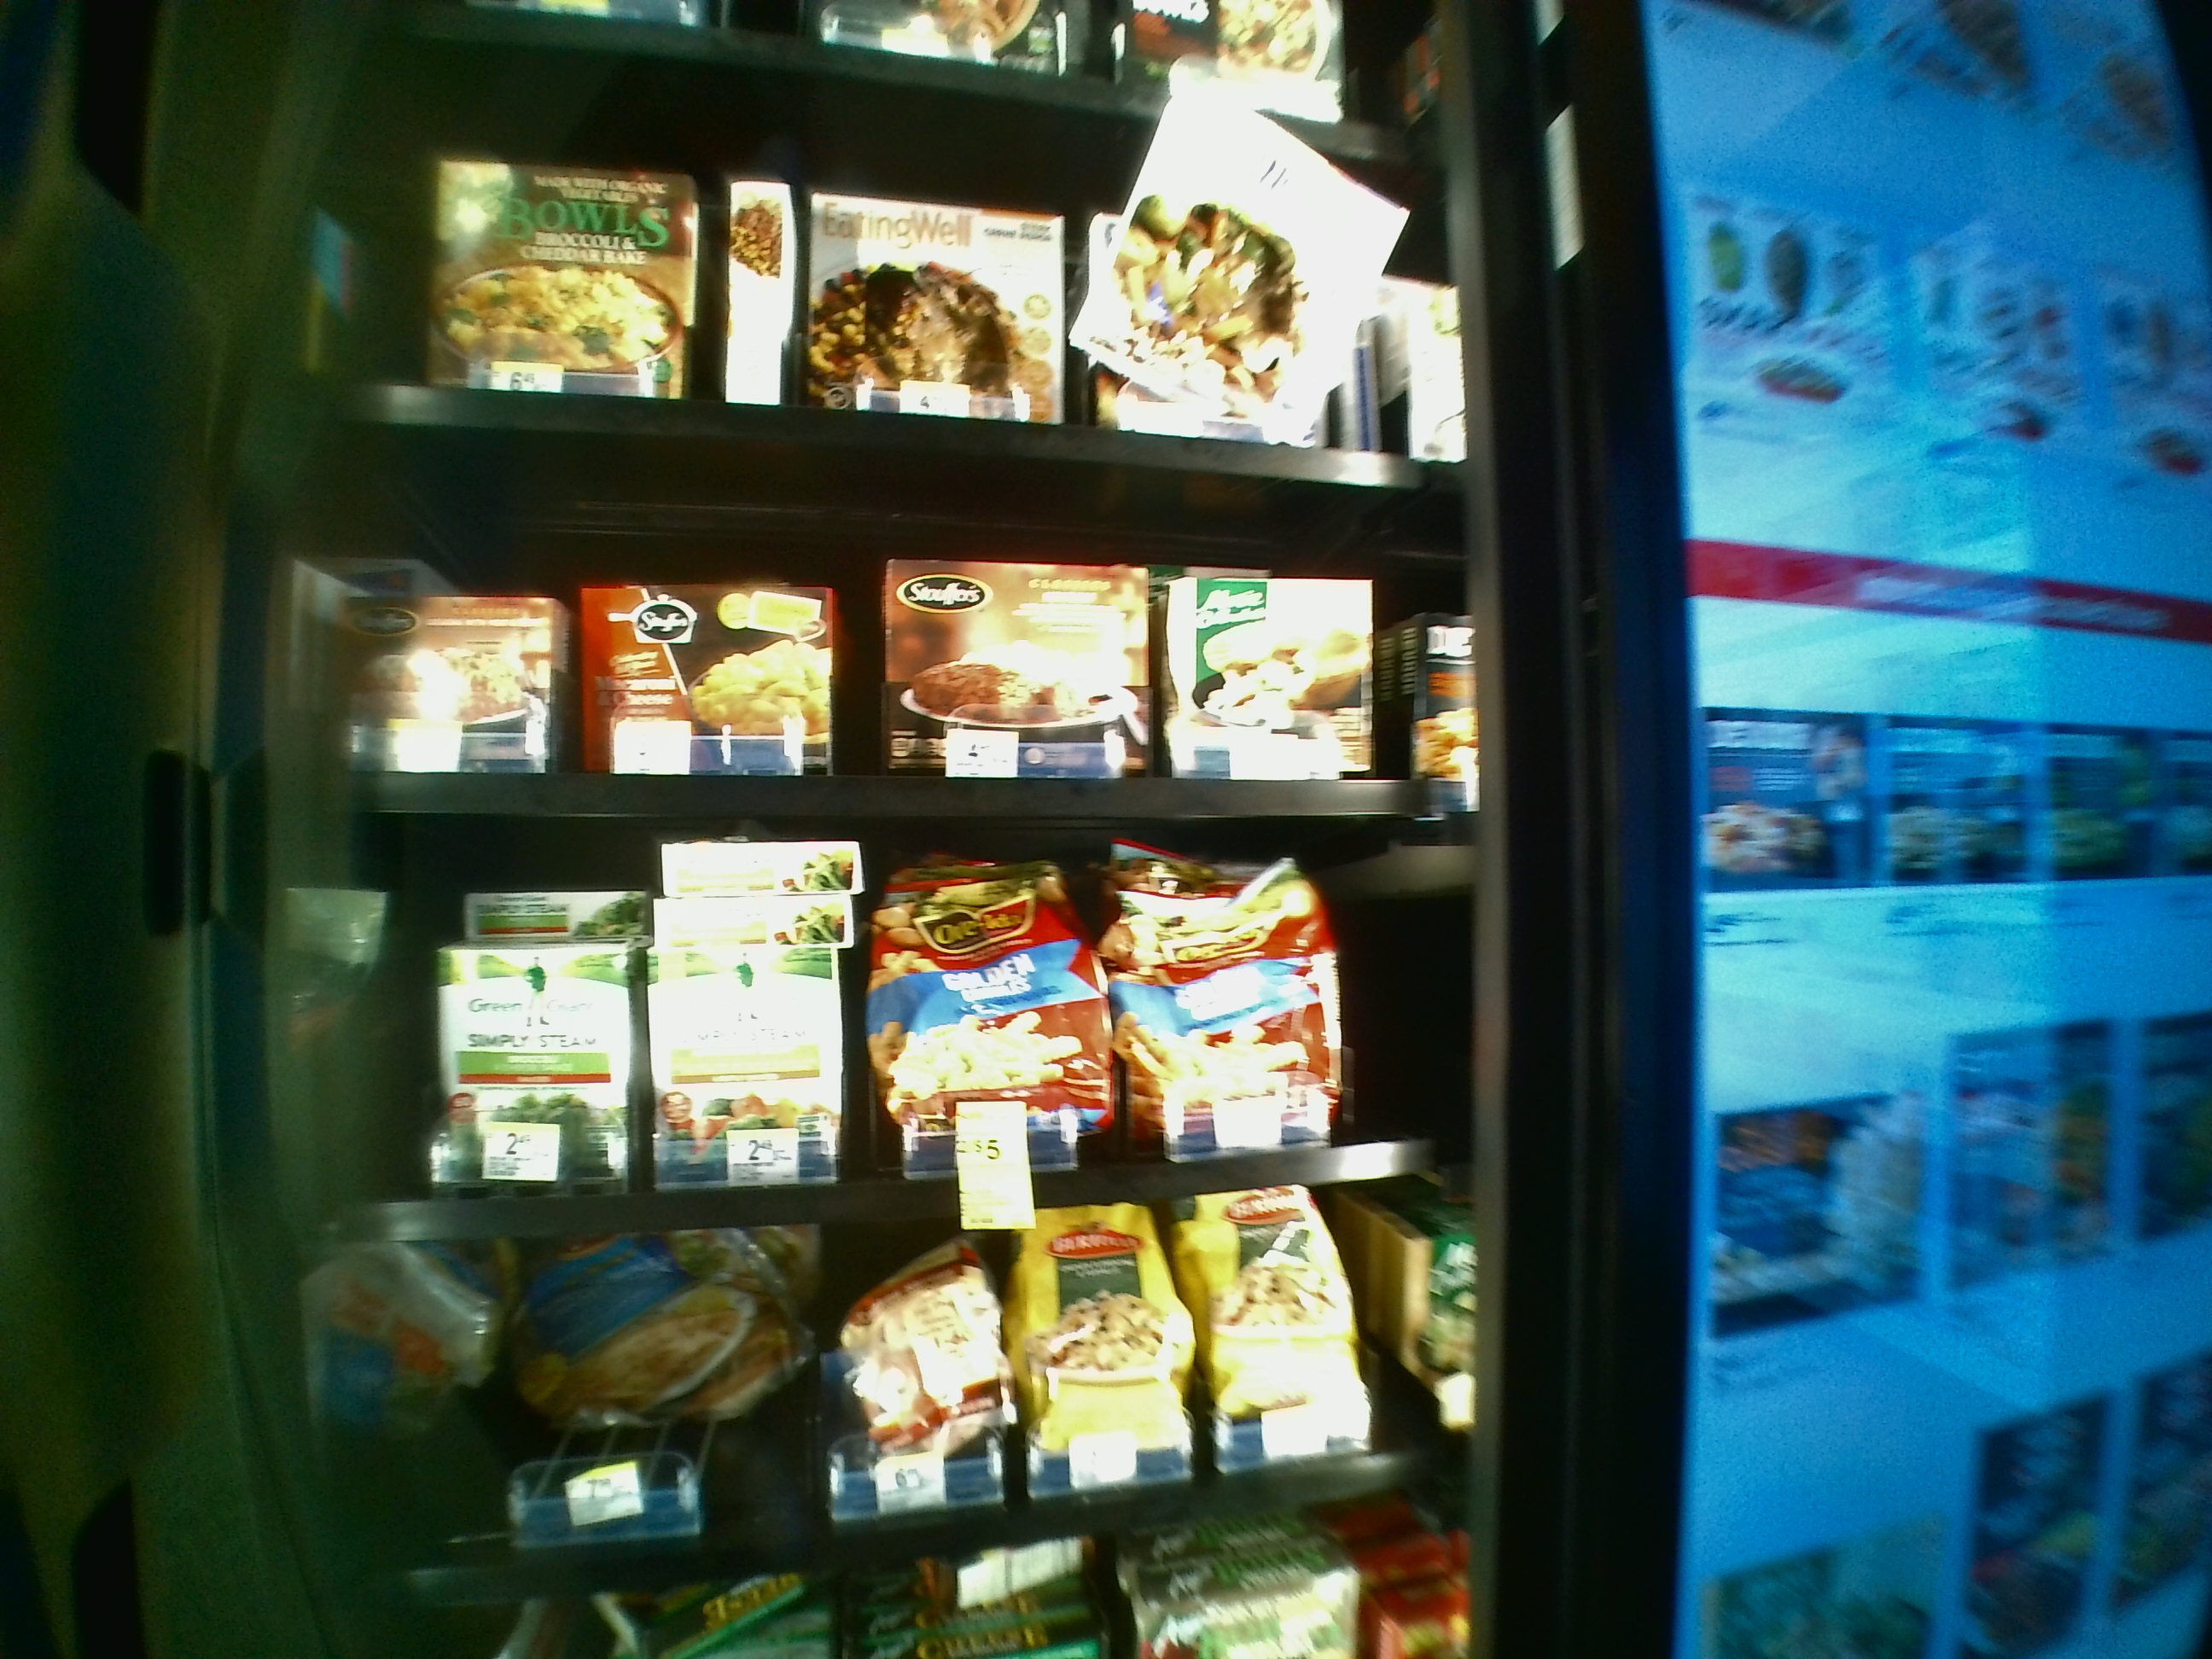shelf: (294, 836, 1480, 1246), (289, 422, 1479, 823)
